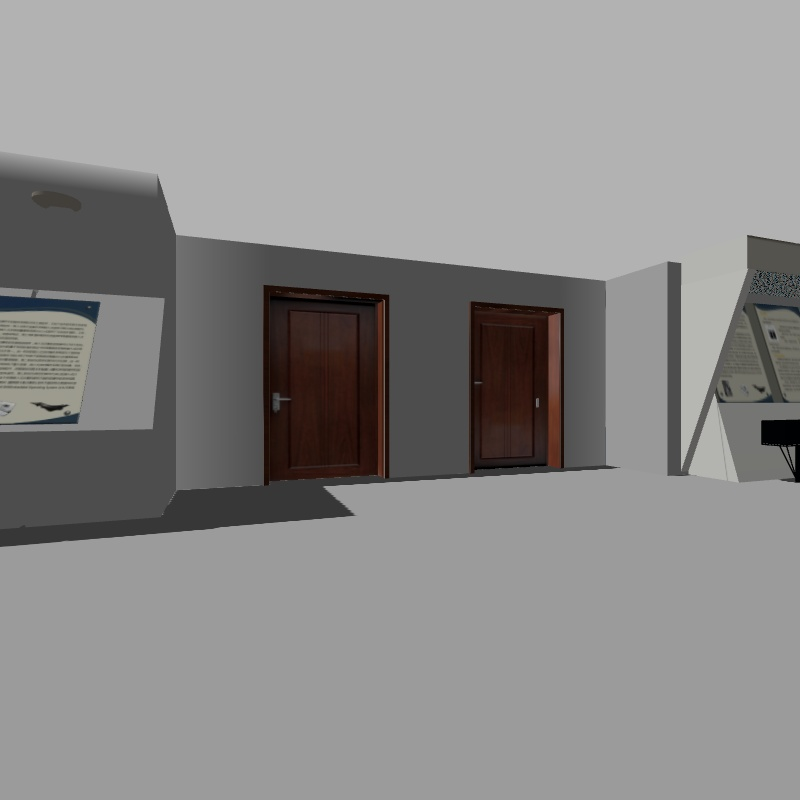handle: (265, 386, 296, 415), (469, 373, 491, 392)
